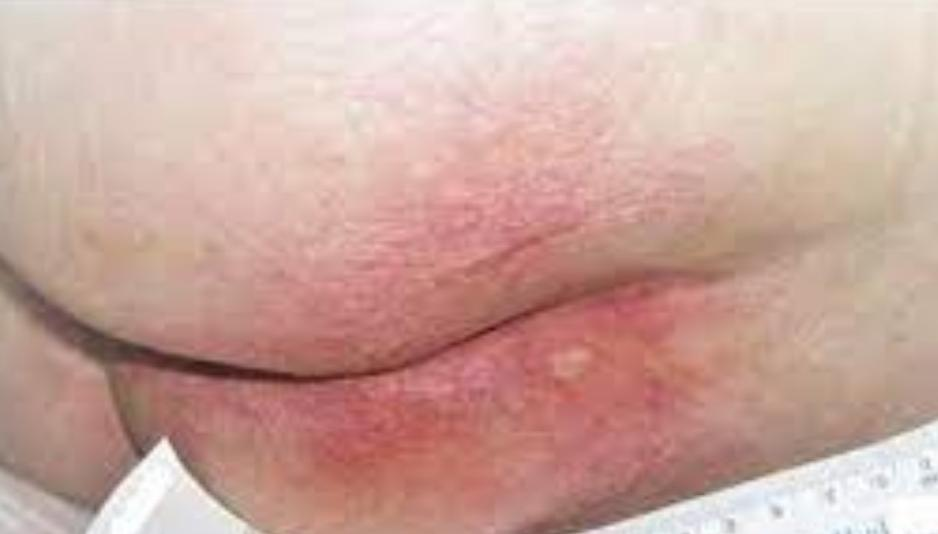Stage1: (45, 81, 741, 534)
